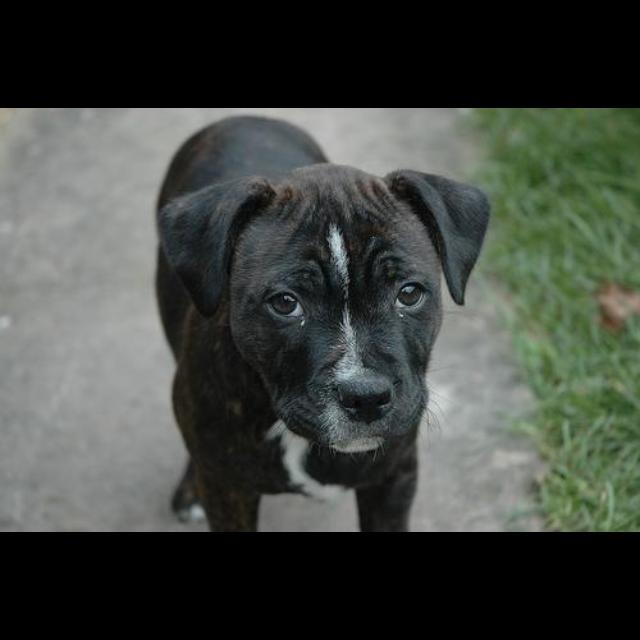amstaff: (156, 114, 493, 532)
